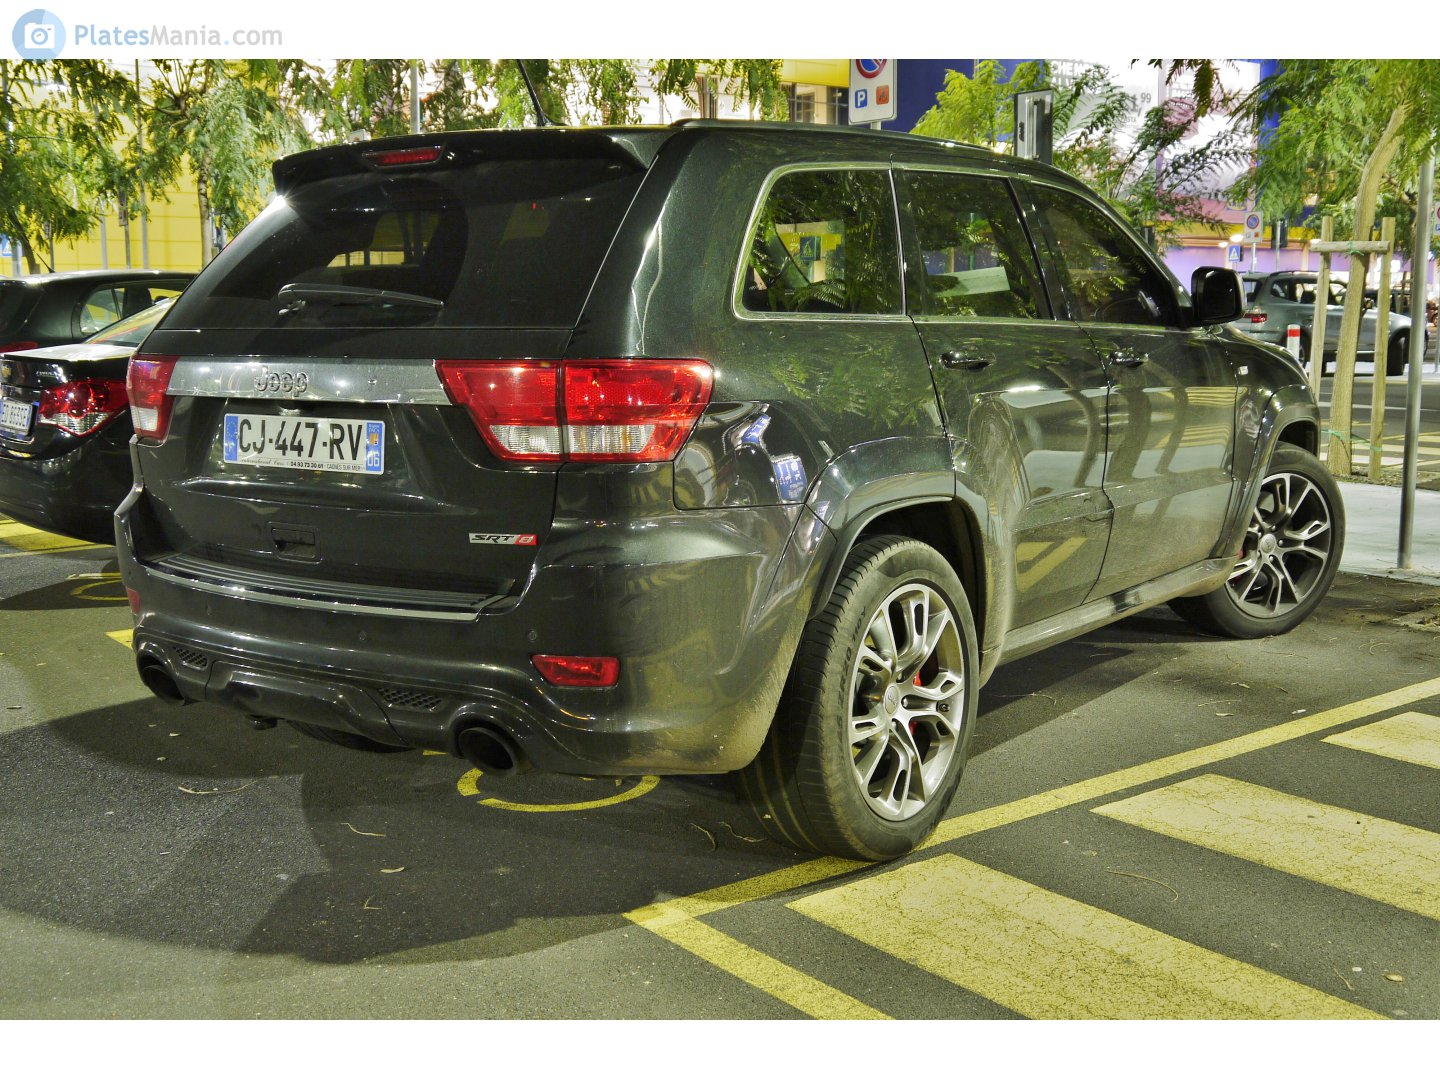licence plate: (219, 407, 389, 478)
